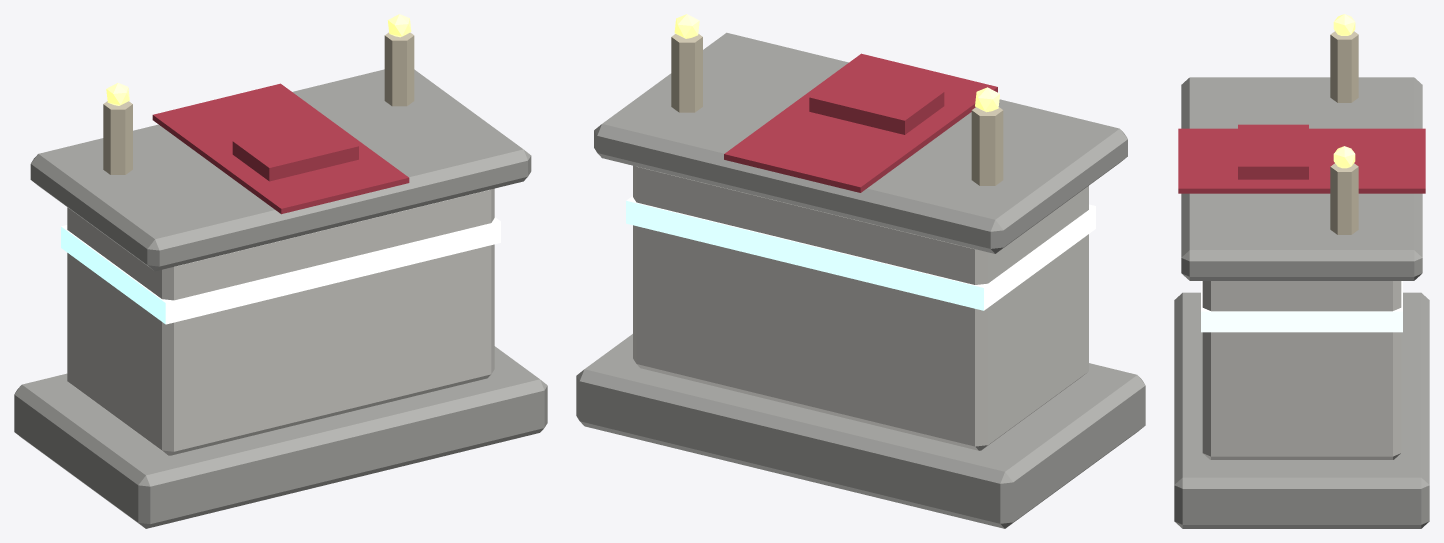
The model's file is Altar.glb.
3 views of the same model, side by side, from view 1: azimuth 30°, elevation 25°; view 2: azimuth 150°, elevation 25°; view 3: azimuth 270°, elevation 25° (orthographic). The views are drawn at different scales.
Visible parts, largest first — view 1: Altar; view 2: Altar; view 3: Altar.
Boxes of the visible parts, x1=… form: Altar: x1=14, y1=14, x2=547, y2=528; Altar: x1=576, y1=14, x2=1145, y2=528; Altar: x1=1174, y1=14, x2=1429, y2=528.
Bounding box in the file's own units: 1.6 × 1.38 × 0.9.
